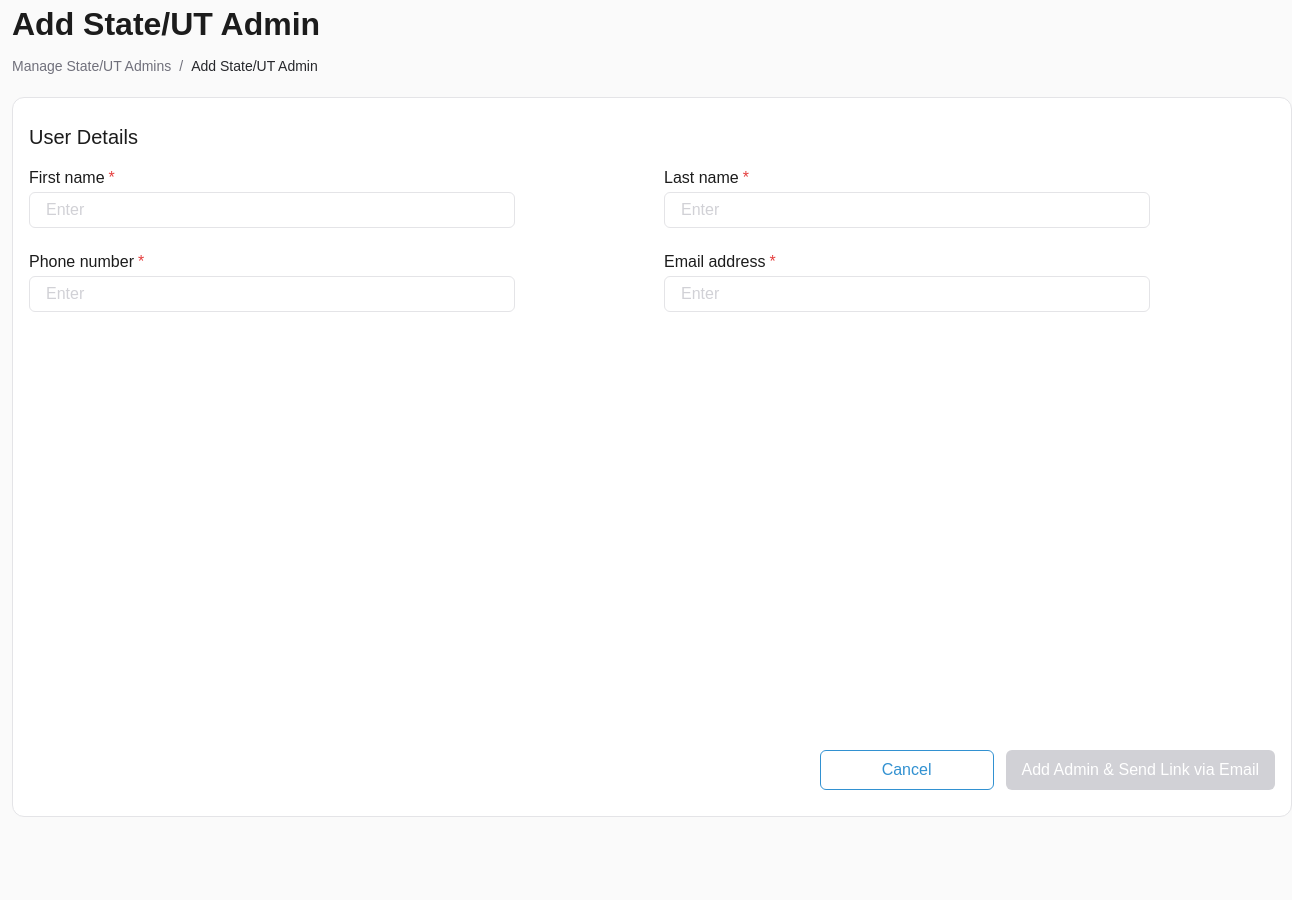
Test: InviteStateUTAdminPage › last name validation › shows alphabetic error when non-alpha chars entered
Type "doe123" into the field labelled "Last name*". click: {"x": 907, "y": 210}
box: [664,192,1150,228]
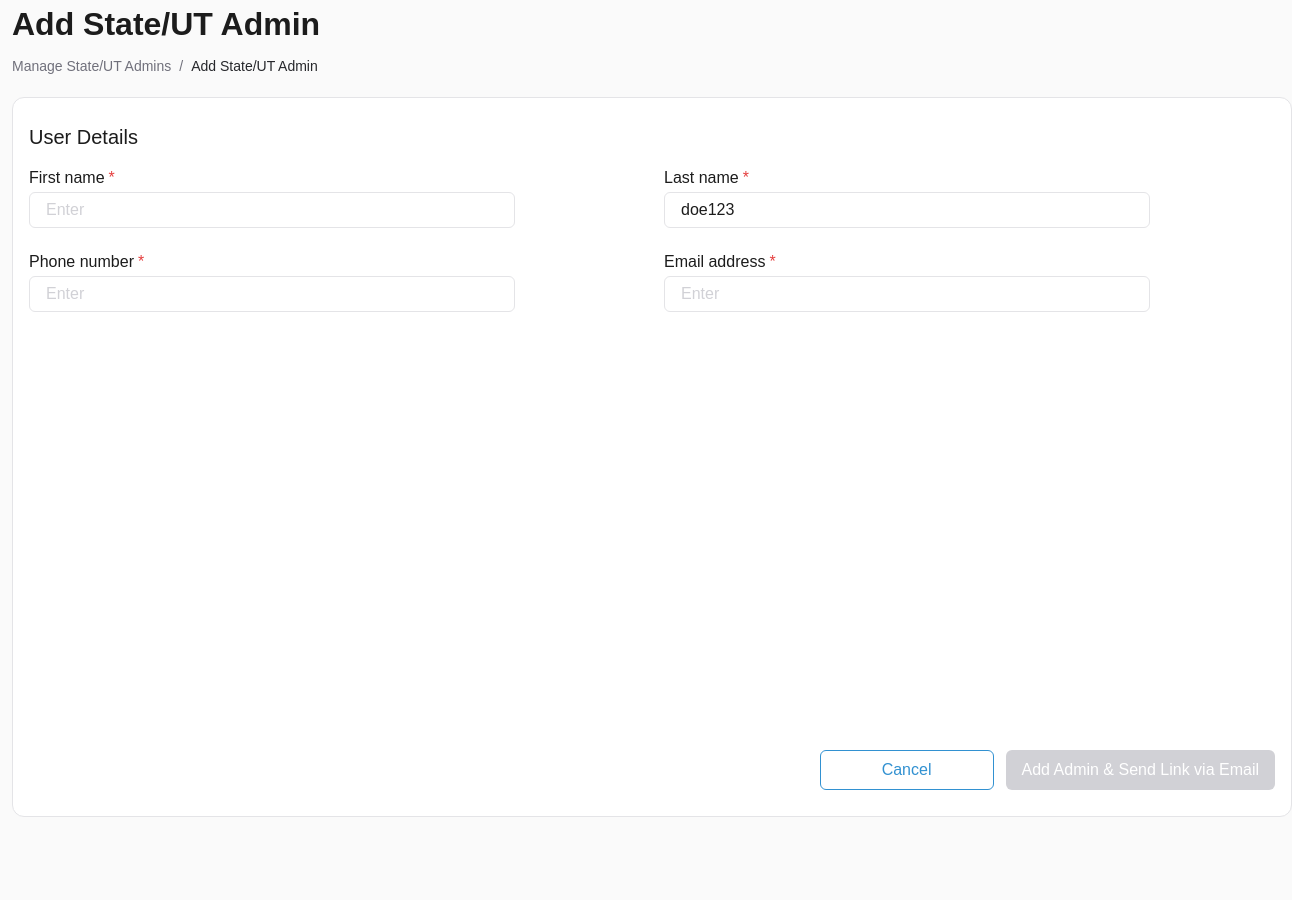
Leave the field labelled "Last name*", box [664,192,1150,228]
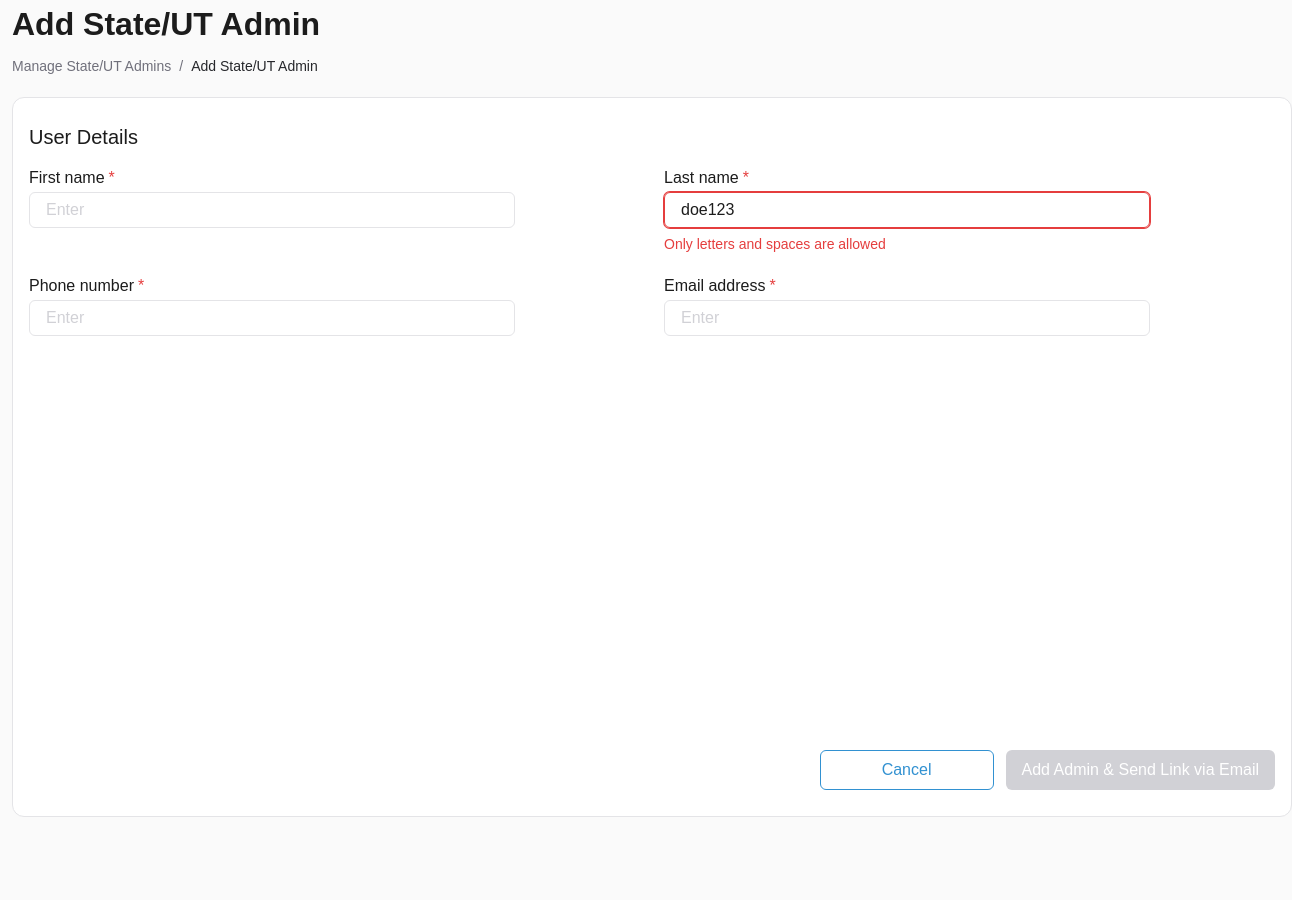
Expected: the text "Only letters and spaces are allowed" is shown, [664,236,886,252]
